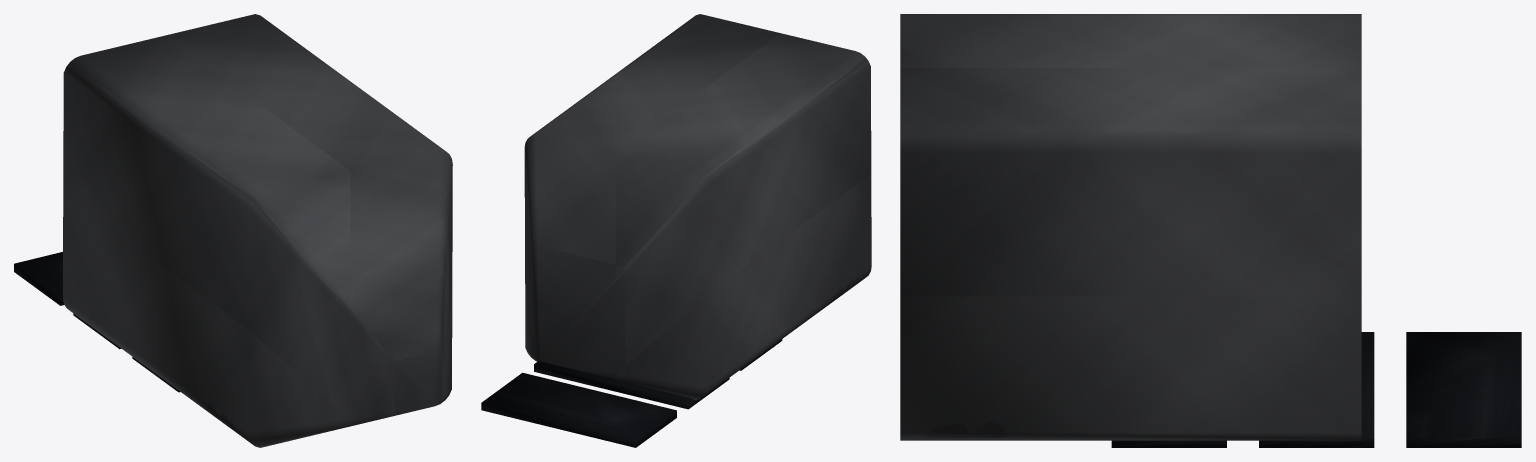
File: CABINET_FILE_001.glb
3 renders of one model, left to right at view 1: azimuth 30°, elevation 25°; view 2: azimuth 150°, elevation 25°; view 3: azimuth 270°, elevation 25°, orthographic. The views are drawn at different scales.
Parts seen in each view (by area): view 1: cabinet_body_000, drawer_front_001; view 2: cabinet_body_000, drawer_front_001, drawer_front_003; view 3: cabinet_body_000, drawer_front_001, drawer_front_003, drawer_front_005.
Boxes of the visible parts, x1=… form: cabinet_body_000: x1=63, y1=14, x2=452, y2=447; drawer_front_001: x1=14, y1=252, x2=64, y2=305; cabinet_body_000: x1=524, y1=14, x2=871, y2=399; drawer_front_001: x1=481, y1=372, x2=676, y2=447; drawer_front_003: x1=534, y1=361, x2=729, y2=409; cabinet_body_000: x1=900, y1=14, x2=1361, y2=440; drawer_front_001: x1=1406, y1=332, x2=1521, y2=447; drawer_front_003: x1=1259, y1=332, x2=1374, y2=447; drawer_front_005: x1=1111, y1=440, x2=1226, y2=447.
Size of the model in its own units: 0.46 by 0.575 by 0.97.
3 materials, 3 textured.
